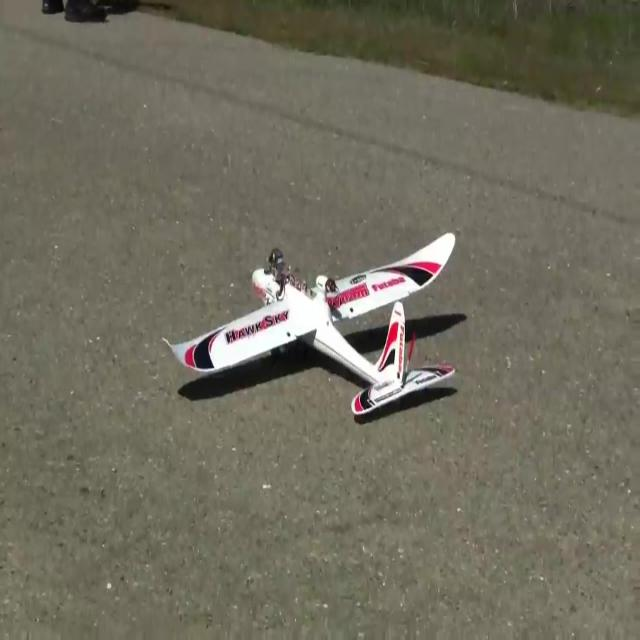iha: (162, 226, 458, 417)
